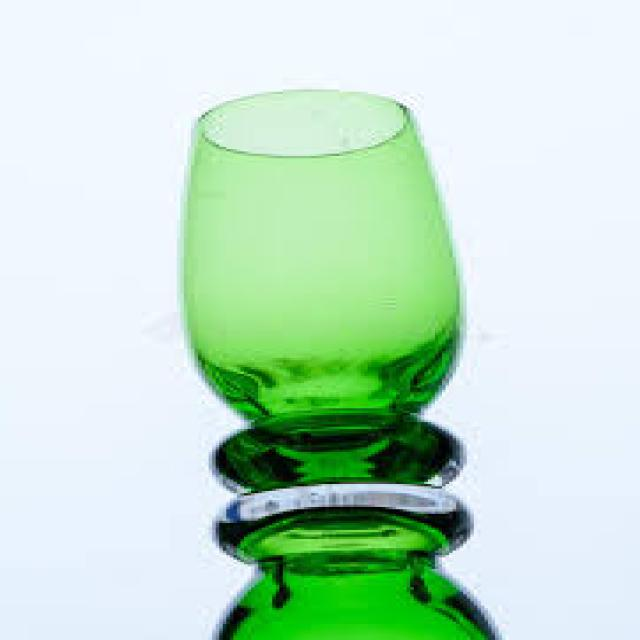glass: (180, 87, 495, 638)
